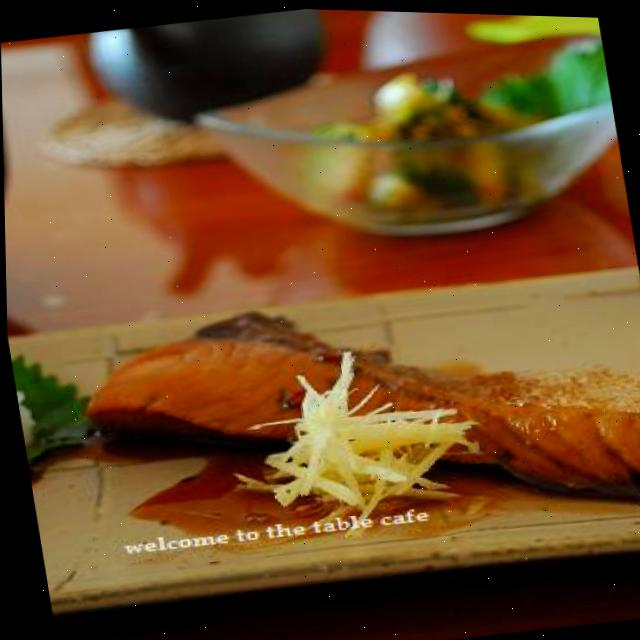熟制海鲜: (4, 203, 640, 601)
